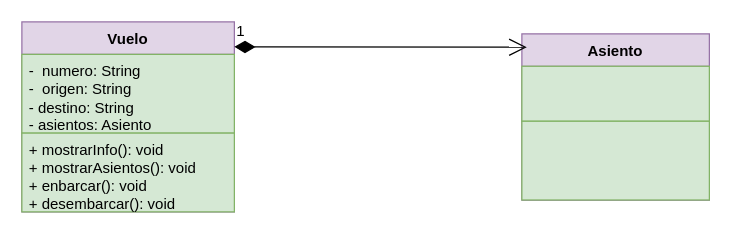
This 731x238 diagram has some shape labels left out. Each missing label, with the box of its shape:
+ ocupar(): void + liberar(): void + mostrarEstado(): void: (521, 120, 709, 200)
- codigo: String - ocupado: boolesn: (521, 65, 709, 121)
